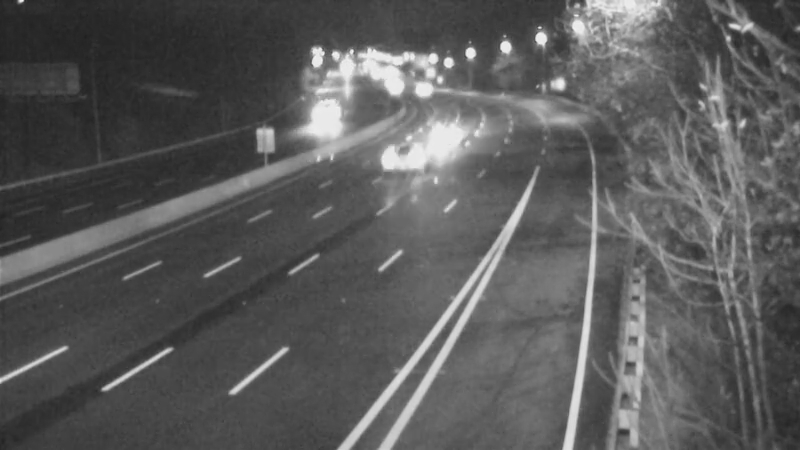vehicle: (371, 122, 451, 202), (373, 63, 423, 113), (395, 63, 445, 113), (414, 111, 464, 161), (291, 96, 341, 146)
